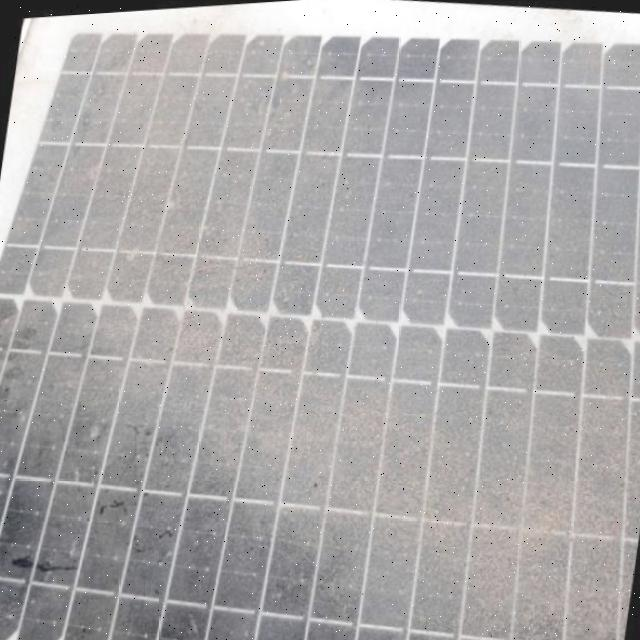Surface Contaminant: (0, 5, 640, 640)
